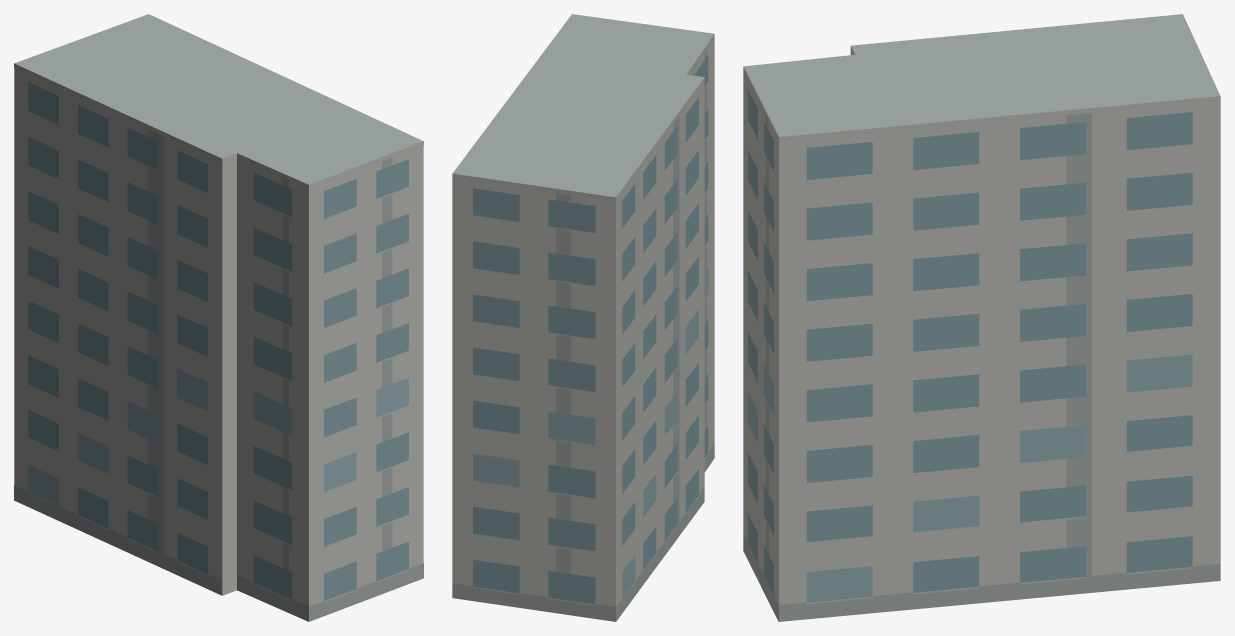
Rendered from survey-upis-32982499.glb.
3 views of the same model, side by side, from view 1: azimuth 30°, elevation 25°; view 2: azimuth 150°, elevation 25°; view 3: azimuth 270°, elevation 25° (orthographic). The views are drawn at different scales.
Visible parts, largest first — view 1: survey-upis-32982499.tmp; view 2: survey-upis-32982499.tmp; view 3: survey-upis-32982499.tmp.
Part boxes in pixels (box(x1,y1,x2,y2)): survey-upis-32982499.tmp: box(14, 14, 423, 621); survey-upis-32982499.tmp: box(452, 14, 714, 621); survey-upis-32982499.tmp: box(743, 14, 1220, 621).
Bounding box in the file's own units: 13.3 × 24.4 × 21.77.
